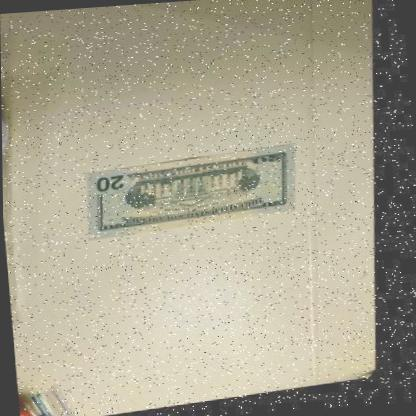dollar_back: (82, 146, 304, 242)
